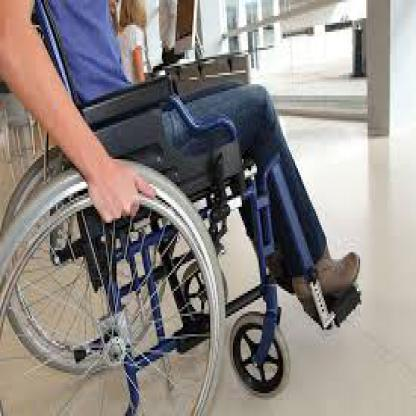wheelchair: (0, 0, 368, 414)
